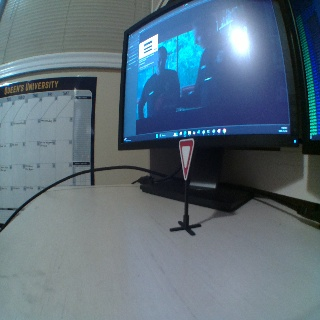sign_yield: (176, 139, 197, 179)
